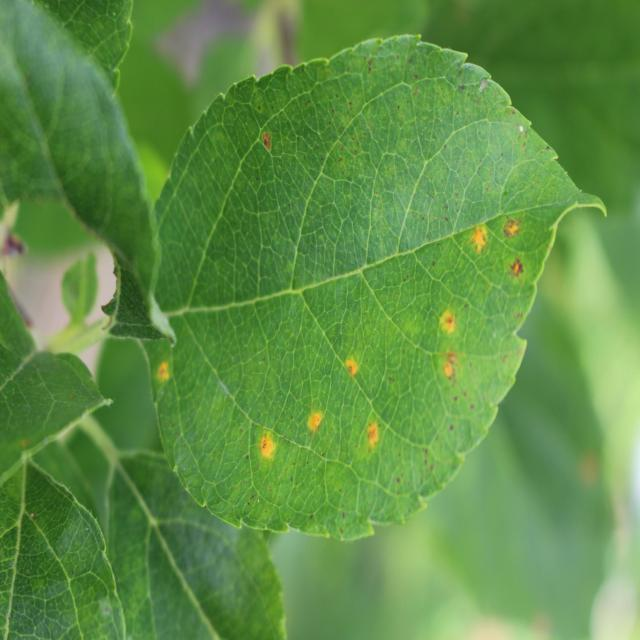Rust: (458, 202, 498, 258), (429, 287, 464, 342), (251, 415, 281, 471), (152, 330, 170, 419), (305, 393, 329, 453), (498, 206, 526, 256), (336, 338, 364, 387), (363, 416, 389, 465), (246, 124, 276, 163), (438, 355, 469, 389), (501, 259, 534, 287)
